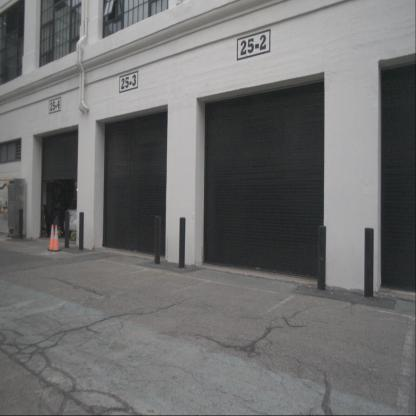cone: (52, 224, 61, 252), (47, 224, 56, 251)
